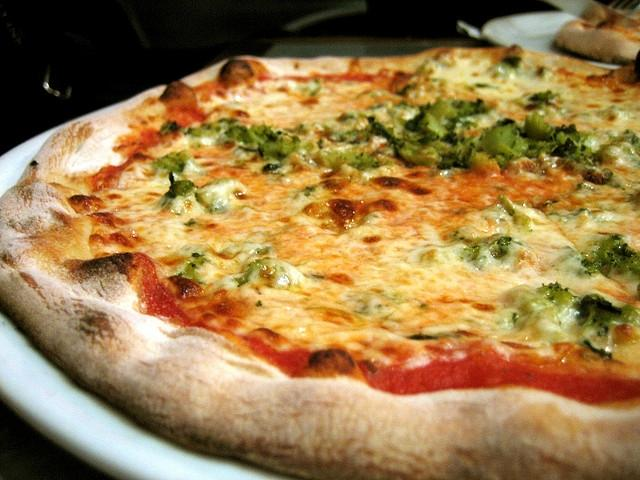broccoli: (513, 280, 588, 342), (471, 118, 529, 173), (578, 233, 640, 280), (311, 111, 378, 145), (574, 294, 624, 337), (520, 110, 558, 158), (160, 172, 204, 212), (463, 236, 522, 264), (196, 178, 240, 213), (404, 112, 448, 142), (178, 253, 210, 286), (258, 136, 300, 160), (152, 150, 190, 176), (233, 259, 267, 287), (156, 120, 184, 136), (501, 56, 522, 70), (344, 147, 362, 160), (183, 218, 200, 228), (310, 86, 322, 96)
